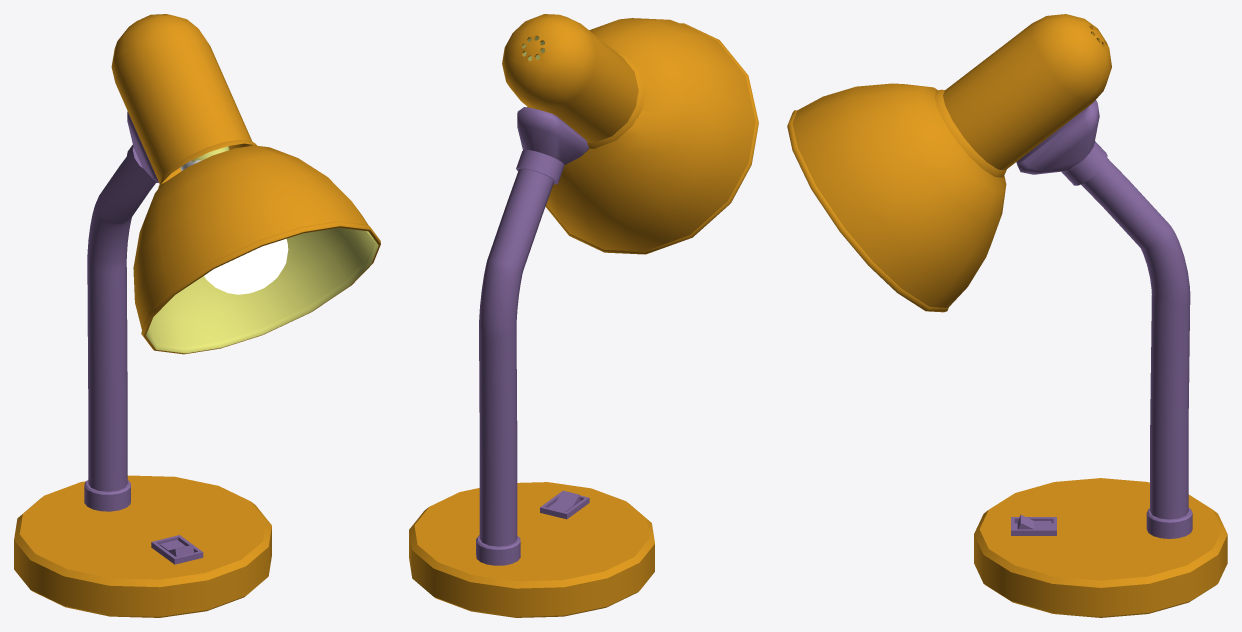
File: Lamp-01.glb
The picture shows the model from 3 angles, left to right: view 1: azimuth 30°, elevation 25°; view 2: azimuth 150°, elevation 25°; view 3: azimuth 270°, elevation 25°; orthographic projection. The views are drawn at different scales.
Visible parts, largest first — view 1: lamp, Sweep, lamp_light; view 2: lamp, Sweep; view 3: lamp, Sweep.
Part boxes in pixels (<box>): lamp: <box>14,14,380,617</box>; Sweep: <box>87,157,155,491</box>; lamp_light: <box>180,160,288,294</box>; lamp: <box>409,14,758,617</box>; Sweep: <box>479,168,554,546</box>; lamp: <box>787,14,1227,617</box>; Sweep: <box>1081,158,1190,519</box>.
Size of the model in its own units: 3.96 by 9.42 by 6.87.
